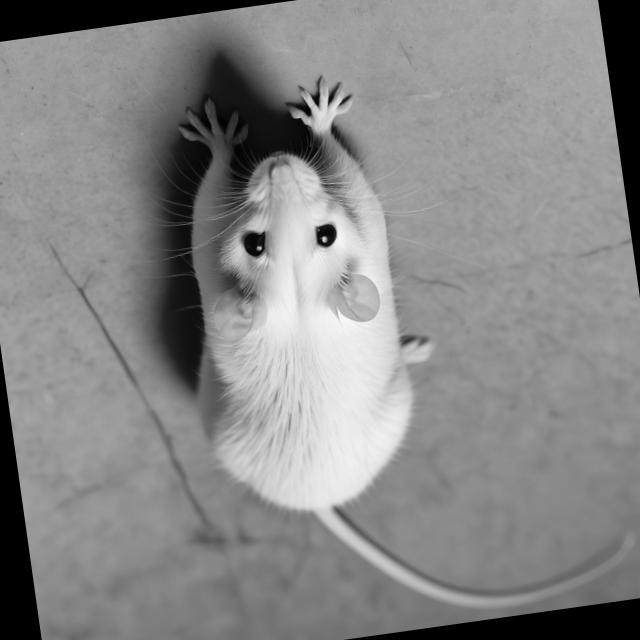rodent: (142, 76, 471, 550)
